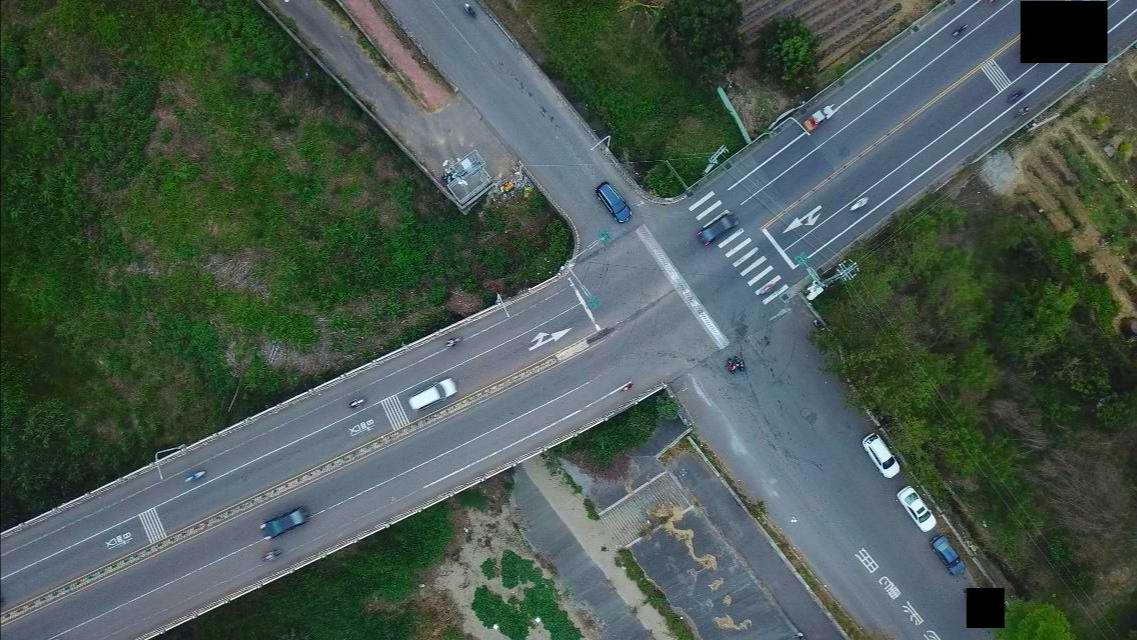vehicle: (893, 484, 937, 533), (862, 433, 902, 480), (406, 377, 458, 413), (259, 506, 312, 541), (595, 181, 632, 225), (696, 210, 740, 245), (929, 534, 966, 575)
